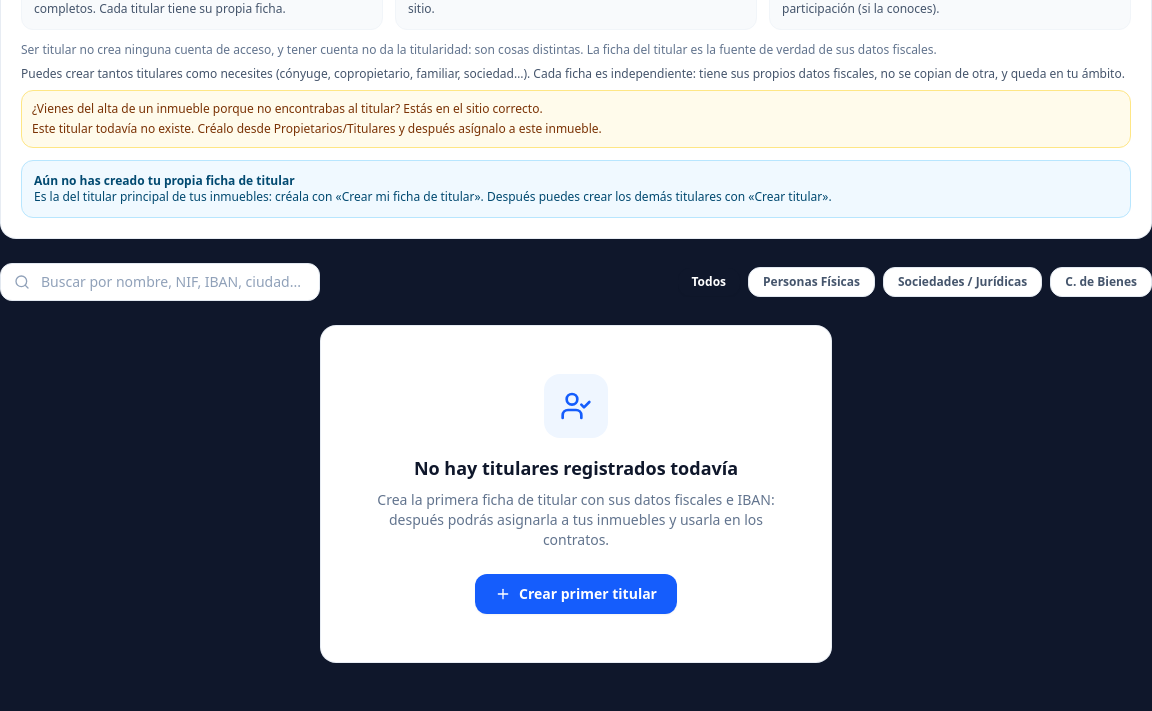
Test: Titulares de ámbito · A — «Crear titular» es reutilizable, sin límite y sin administrador › A2 · sin ninguna ficha propia ni de ámbito: «Crear titular» está igualmente, y «Crear primer titular» en el vacío
This screenshot has width=1152, height=711.
(page scrolled)
Click the button with test id "boton-crear-primer-titular".
click(576, 594)  # box x1=475 y1=574 x2=677 y2=614
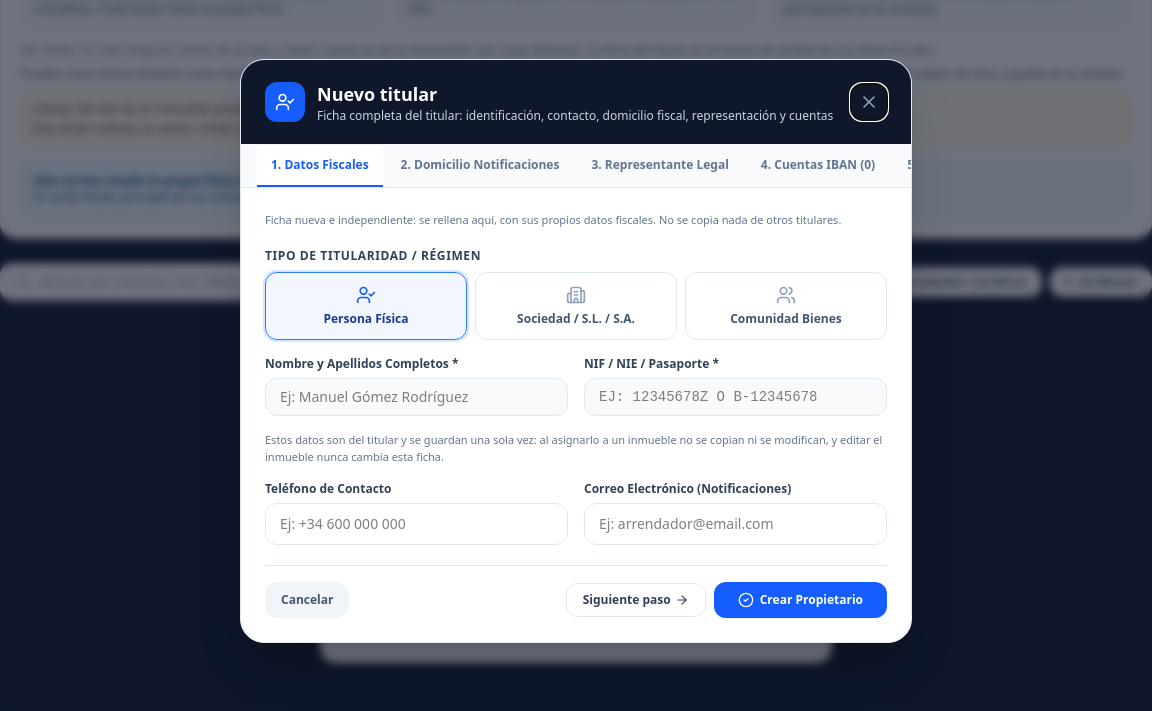
Expected: the dialog named "Nuevo propietario" is shown, x1=240 y1=59 x2=912 y2=643
